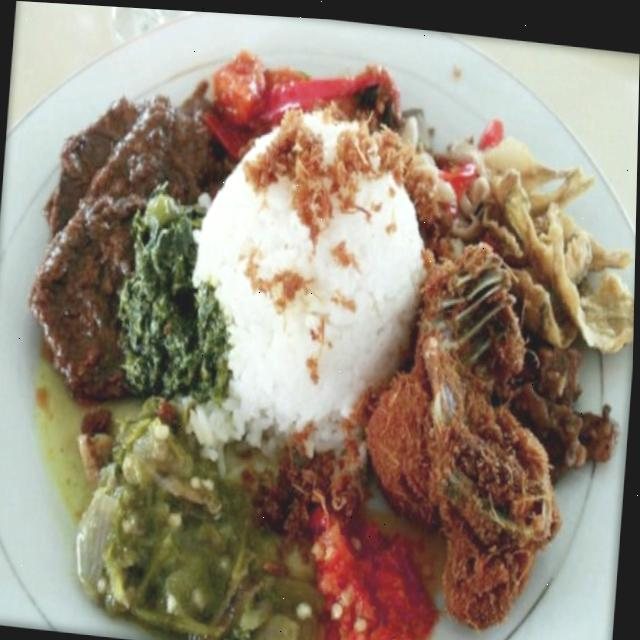米饭主食: (0, 0, 635, 640)
